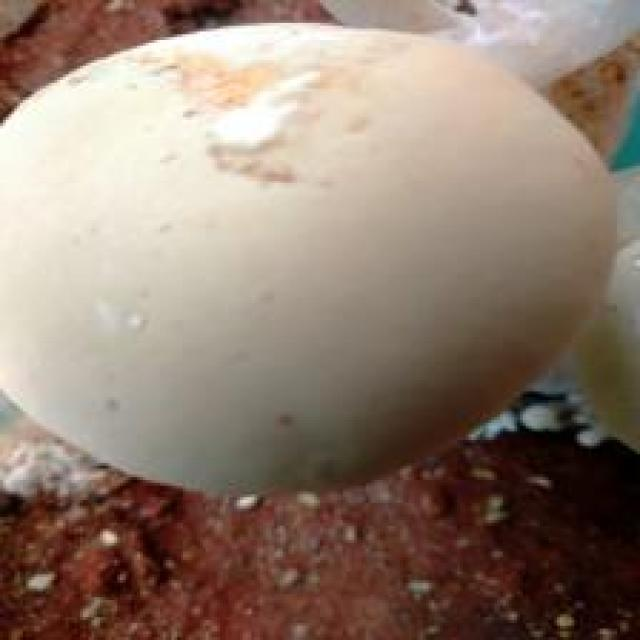death-cap: (0, 17, 620, 500)
